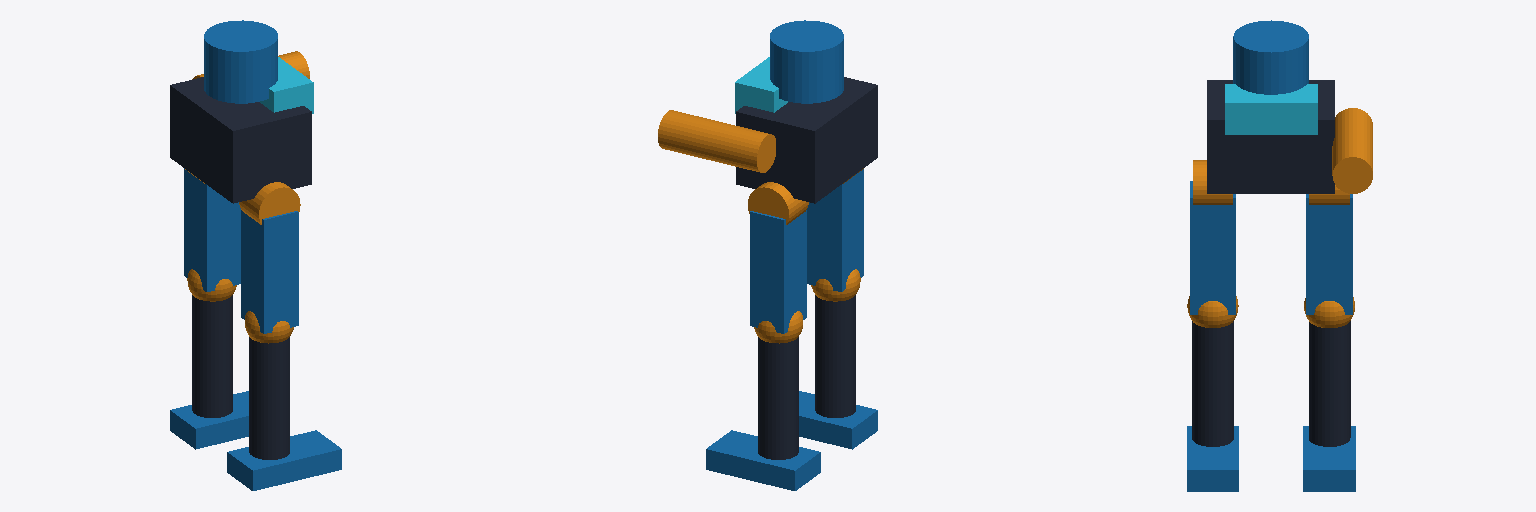
URDF robot description (striker_biped_zup):
<?xml version="1.0"?>
<robot name="striker_biped_zup">
  <material name="chassis_carbon"><color rgba="0.18 0.21 0.27 1.0"/></material>
  <material name="armor_cobalt"><color rgba="0.14 0.48 0.72 1.0"/></material>
  <material name="servo_amber"><color rgba="0.88 0.56 0.14 1.0"/></material>
  <material name="visor_cyan"><color rgba="0.22 0.78 0.90 1.0"/></material>

  <link name="base_link">
    <visual>
      <origin xyz="0 0 0" rpy="0 0 0"/>
      <geometry><box size="0.16 0.22 0.14"/></geometry>
      <material name="chassis_carbon"/>
    </visual>
    <visual>
      <origin xyz="0.06 0 0.08" rpy="0 0 0"/>
      <geometry><box size="0.08 0.16 0.06"/></geometry>
      <material name="visor_cyan"/>
    </visual>
  </link>

  <link name="turret_head">
    <visual>
      <origin xyz="0 0 0.06" rpy="0 0 0"/>
      <geometry><cylinder radius="0.065" length="0.10"/></geometry>
      <material name="armor_cobalt"/>
    </visual>
  </link>
  <joint name="head_yaw" type="revolute">
    <parent link="base_link"/>
    <child link="turret_head"/>
    <origin xyz="0 0 0.08" rpy="0 0 0"/>
    <axis xyz="0 0 1"/>
    <limit lower="-1.57" upper="1.57" effort="12.0" velocity="6.0"/>
  </joint>

  <!-- Left Leg (Z-down) -->
  <link name="l_hip_link">
    <visual>
      <origin xyz="0 0 -0.02" rpy="1.5708 0 0"/>
      <geometry><cylinder radius="0.042" length="0.07"/></geometry>
      <material name="servo_amber"/>
    </visual>
    <visual>
      <origin xyz="0 0 -0.14" rpy="0 0 0"/>
      <geometry><box size="0.07 0.08 0.22"/></geometry>
      <material name="armor_cobalt"/>
    </visual>
  </link>
  <joint name="l_hip_pitch" type="revolute">
    <parent link="base_link"/>
    <child link="l_hip_link"/>
    <origin xyz="0 0.10 -0.07" rpy="0 0 0"/>
    <axis xyz="0 1 0"/>
    <limit lower="-1.35" upper="1.10" effort="25.0" velocity="6.0"/>
  </joint>

  <link name="l_shin_link">
    <visual>
      <origin xyz="0 0 0" rpy="0 0 0"/>
      <geometry><sphere radius="0.044"/></geometry>
      <material name="servo_amber"/>
    </visual>
    <visual>
      <origin xyz="0 0 -0.13" rpy="0 0 0"/>
      <geometry><cylinder radius="0.036" length="0.24"/></geometry>
      <material name="chassis_carbon"/>
    </visual>
  </link>
  <joint name="l_knee_pitch" type="revolute">
    <parent link="l_hip_link"/>
    <child link="l_shin_link"/>
    <origin xyz="0 0 -0.25" rpy="0 0 0"/>
    <axis xyz="0 1 0"/>
    <limit lower="0.0" upper="2.0" effort="25.0" velocity="6.0"/>
  </joint>

  <link name="l_foot_link">
    <visual>
      <origin xyz="0.03 0 -0.025" rpy="0 0 0"/>
      <geometry><box size="0.18 0.09 0.04"/></geometry>
      <material name="armor_cobalt"/>
    </visual>
  </link>
  <joint name="l_ankle_pitch" type="revolute">
    <parent link="l_shin_link"/>
    <child link="l_foot_link"/>
    <origin xyz="0 0 -0.25" rpy="0 0 0"/>
    <axis xyz="0 1 0"/>
    <limit lower="-0.8" upper="0.8" effort="18.0" velocity="6.0"/>
  </joint>

  <!-- Right Leg (Z-down) -->
  <link name="r_hip_link">
    <visual>
      <origin xyz="0 0 -0.02" rpy="1.5708 0 0"/>
      <geometry><cylinder radius="0.042" length="0.07"/></geometry>
      <material name="servo_amber"/>
    </visual>
    <visual>
      <origin xyz="0 0 -0.14" rpy="0 0 0"/>
      <geometry><box size="0.07 0.08 0.22"/></geometry>
      <material name="armor_cobalt"/>
    </visual>
  </link>
  <joint name="r_hip_pitch" type="revolute">
    <parent link="base_link"/>
    <child link="r_hip_link"/>
    <origin xyz="0 -0.10 -0.07" rpy="0 0 0"/>
    <axis xyz="0 1 0"/>
    <limit lower="-1.35" upper="1.10" effort="25.0" velocity="6.0"/>
  </joint>

  <link name="r_shin_link">
    <visual>
      <origin xyz="0 0 0" rpy="0 0 0"/>
      <geometry><sphere radius="0.044"/></geometry>
      <material name="servo_amber"/>
    </visual>
    <visual>
      <origin xyz="0 0 -0.13" rpy="0 0 0"/>
      <geometry><cylinder radius="0.036" length="0.24"/></geometry>
      <material name="chassis_carbon"/>
    </visual>
  </link>
  <joint name="r_knee_pitch" type="revolute">
    <parent link="r_hip_link"/>
    <child link="r_shin_link"/>
    <origin xyz="0 0 -0.25" rpy="0 0 0"/>
    <axis xyz="0 1 0"/>
    <limit lower="0.0" upper="2.0" effort="25.0" velocity="6.0"/>
  </joint>

  <link name="r_foot_link">
    <visual>
      <origin xyz="0.03 0 -0.025" rpy="0 0 0"/>
      <geometry><box size="0.18 0.09 0.04"/></geometry>
      <material name="armor_cobalt"/>
    </visual>
  </link>
  <joint name="r_ankle_pitch" type="revolute">
    <parent link="r_shin_link"/>
    <child link="r_foot_link"/>
    <origin xyz="0 0 -0.25" rpy="0 0 0"/>
    <axis xyz="0 1 0"/>
    <limit lower="-0.8" upper="0.8" effort="18.0" velocity="6.0"/>
  </joint>

  <!-- Weapon Shoulder Arms -->
  <link name="l_arm_pod">
    <visual>
      <origin xyz="0.10 0 0" rpy="0 1.5708 0"/>
      <geometry><cylinder radius="0.035" length="0.20"/></geometry>
      <material name="servo_amber"/>
    </visual>
  </link>
  <joint name="l_shoulder_pitch" type="revolute">
    <parent link="base_link"/>
    <child link="l_arm_pod"/>
    <origin xyz="0 0.14 0.02" rpy="0 0 0"/>
    <axis xyz="0 1 0"/>
    <limit lower="-1.4" upper="1.4" effort="15.0" velocity="6.0"/>
  </joint>
</robot>

--- Facts derived from the render (not from the file) ---
The picture shows the robot from 3 angles, left to right: view 1: azimuth 30°, elevation 25°; view 2: azimuth 150°, elevation 25°; view 3: azimuth 270°, elevation 25°; orthographic projection.
Model striker_biped_zup with 9 links and 8 joints (8 revolute), rooted at base_link, posed every joint at zero.
Links seen in each view (by area): view 1: base_link, r_hip_link, r_shin_link, l_shin_link, turret_head, l_hip_link, r_foot_link, l_foot_link; view 2: base_link, l_hip_link, l_shin_link, r_shin_link, turret_head, r_hip_link, l_arm_pod, l_foot_link, r_foot_link; view 3: base_link, r_shin_link, l_shin_link, r_hip_link, l_hip_link, turret_head, l_arm_pod, l_foot_link, r_foot_link.
Link boxes in pixels (x1,y1,x2,y2): base_link: (170,57,313,203); r_hip_link: (239,182,300,333); r_shin_link: (245,311,293,459); l_shin_link: (187,269,236,417); turret_head: (204,20,277,103); l_hip_link: (184,168,240,291); r_foot_link: (227,430,341,490); l_foot_link: (170,391,248,449); base_link: (735,57,877,203); l_hip_link: (748,182,808,333); l_shin_link: (754,311,802,459); r_shin_link: (811,269,860,417); turret_head: (770,20,843,103); r_hip_link: (807,168,863,291); l_arm_pod: (658,110,775,172); l_foot_link: (706,430,820,490); r_foot_link: (799,391,877,449); base_link: (1207,80,1334,193); r_shin_link: (1187,296,1238,446); l_shin_link: (1304,297,1354,446); r_hip_link: (1190,160,1235,314); l_hip_link: (1306,185,1352,314); turret_head: (1233,20,1308,94); l_arm_pod: (1332,108,1372,193); l_foot_link: (1303,426,1355,491); r_foot_link: (1187,426,1238,491).
Size in the robot's own frame: 0.28 by 0.32 by 0.805 metres.
Geometry: primitives only (box / cylinder / sphere), no mesh files.
